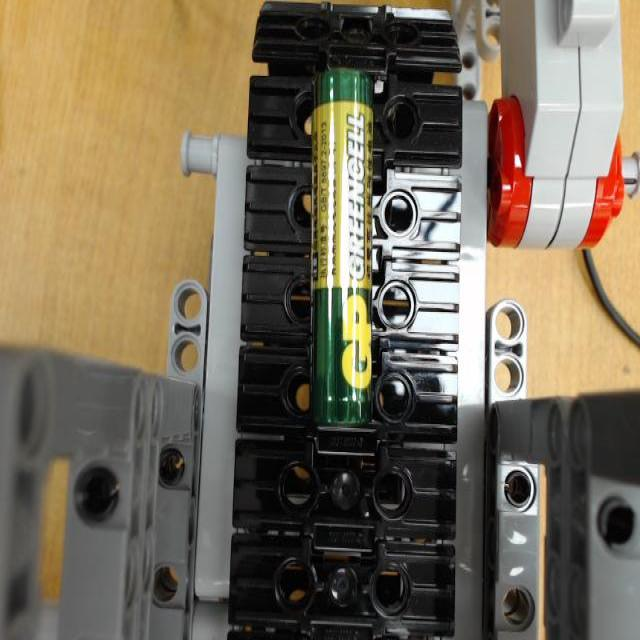AAA: (304, 66, 376, 435)
